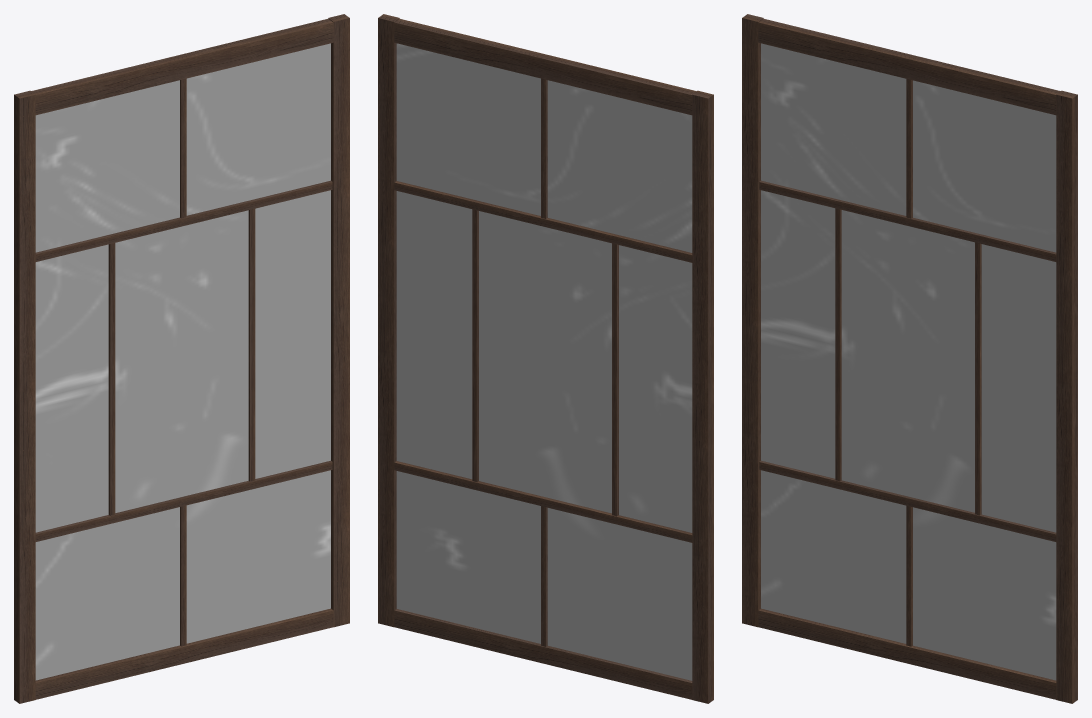
Rendered from window_b03.fbx.
The picture shows the model from 3 angles, left to right: view 1: azimuth 30°, elevation 25°; view 2: azimuth 150°, elevation 25°; view 3: azimuth 330°, elevation 25°; orthographic projection.
Visible parts, largest first — view 1: window_b03; view 2: window_b03; view 3: window_b03.
Boxes of the visible parts, x1,y1,x2,y2 form: window_b03: (14,14,349,703); window_b03: (378,14,713,703); window_b03: (742,14,1077,703).
Size of the model in its own units: 81.13 by 142 by 2.33.
